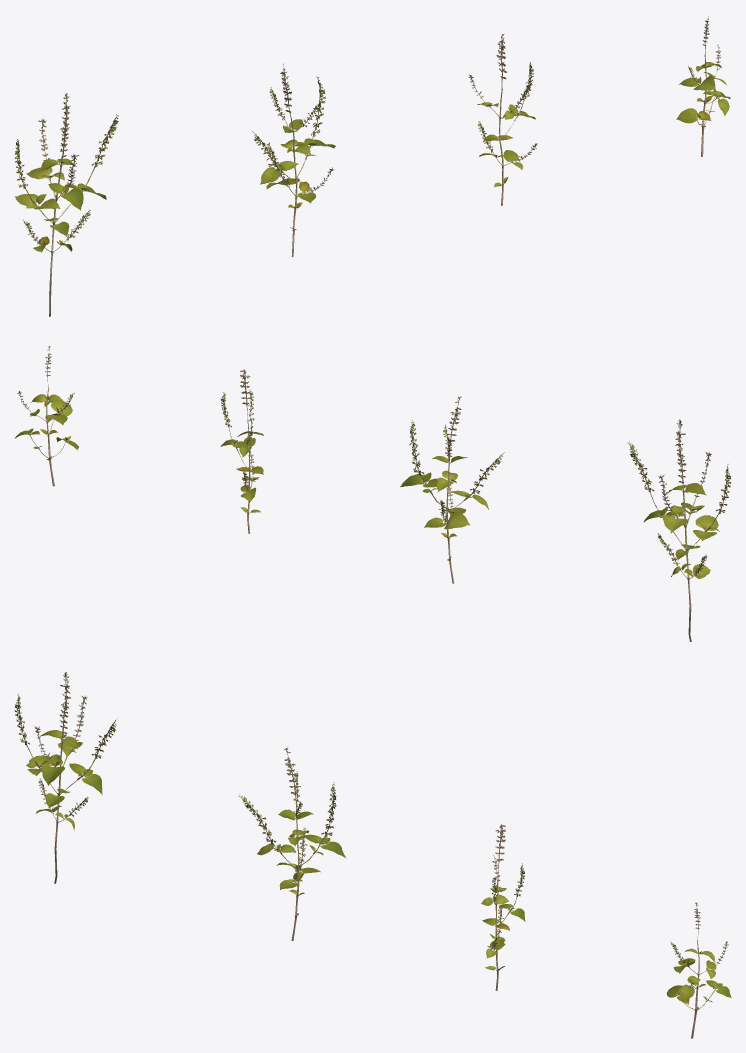
The model's file is shrub_03.glb.
3 views of the same model, one above another, from view 1: azimuth 30°, elevation 25°; view 2: azimuth 150°, elevation 25°; view 3: azimuth 330°, elevation 25° (orthographic). The views are drawn at different scales.
Visible parts, largest first — view 1: shrub_03_a, shrub_03_b, shrub_03_c, shrub_03_d; view 2: shrub_03_a, shrub_03_b, shrub_03_c, shrub_03_d; view 3: shrub_03_a, shrub_03_b, shrub_03_d, shrub_03_c.
Boxes of the visible parts, bbox=[...] form: shrub_03_a: bbox=[15, 93, 118, 316]; shrub_03_b: bbox=[252, 63, 335, 256]; shrub_03_c: bbox=[468, 34, 537, 205]; shrub_03_d: bbox=[676, 16, 730, 156]; shrub_03_a: bbox=[627, 419, 730, 641]; shrub_03_b: bbox=[400, 396, 504, 583]; shrub_03_c: bbox=[221, 369, 263, 533]; shrub_03_d: bbox=[14, 346, 78, 486]; shrub_03_a: bbox=[15, 672, 116, 883]; shrub_03_b: bbox=[238, 747, 345, 940]; shrub_03_d: bbox=[666, 902, 731, 1038]; shrub_03_c: bbox=[481, 824, 525, 990].
Size of the model in its own units: 2 by 0.5893 by 0.2212.
1 material, 1 textured.
